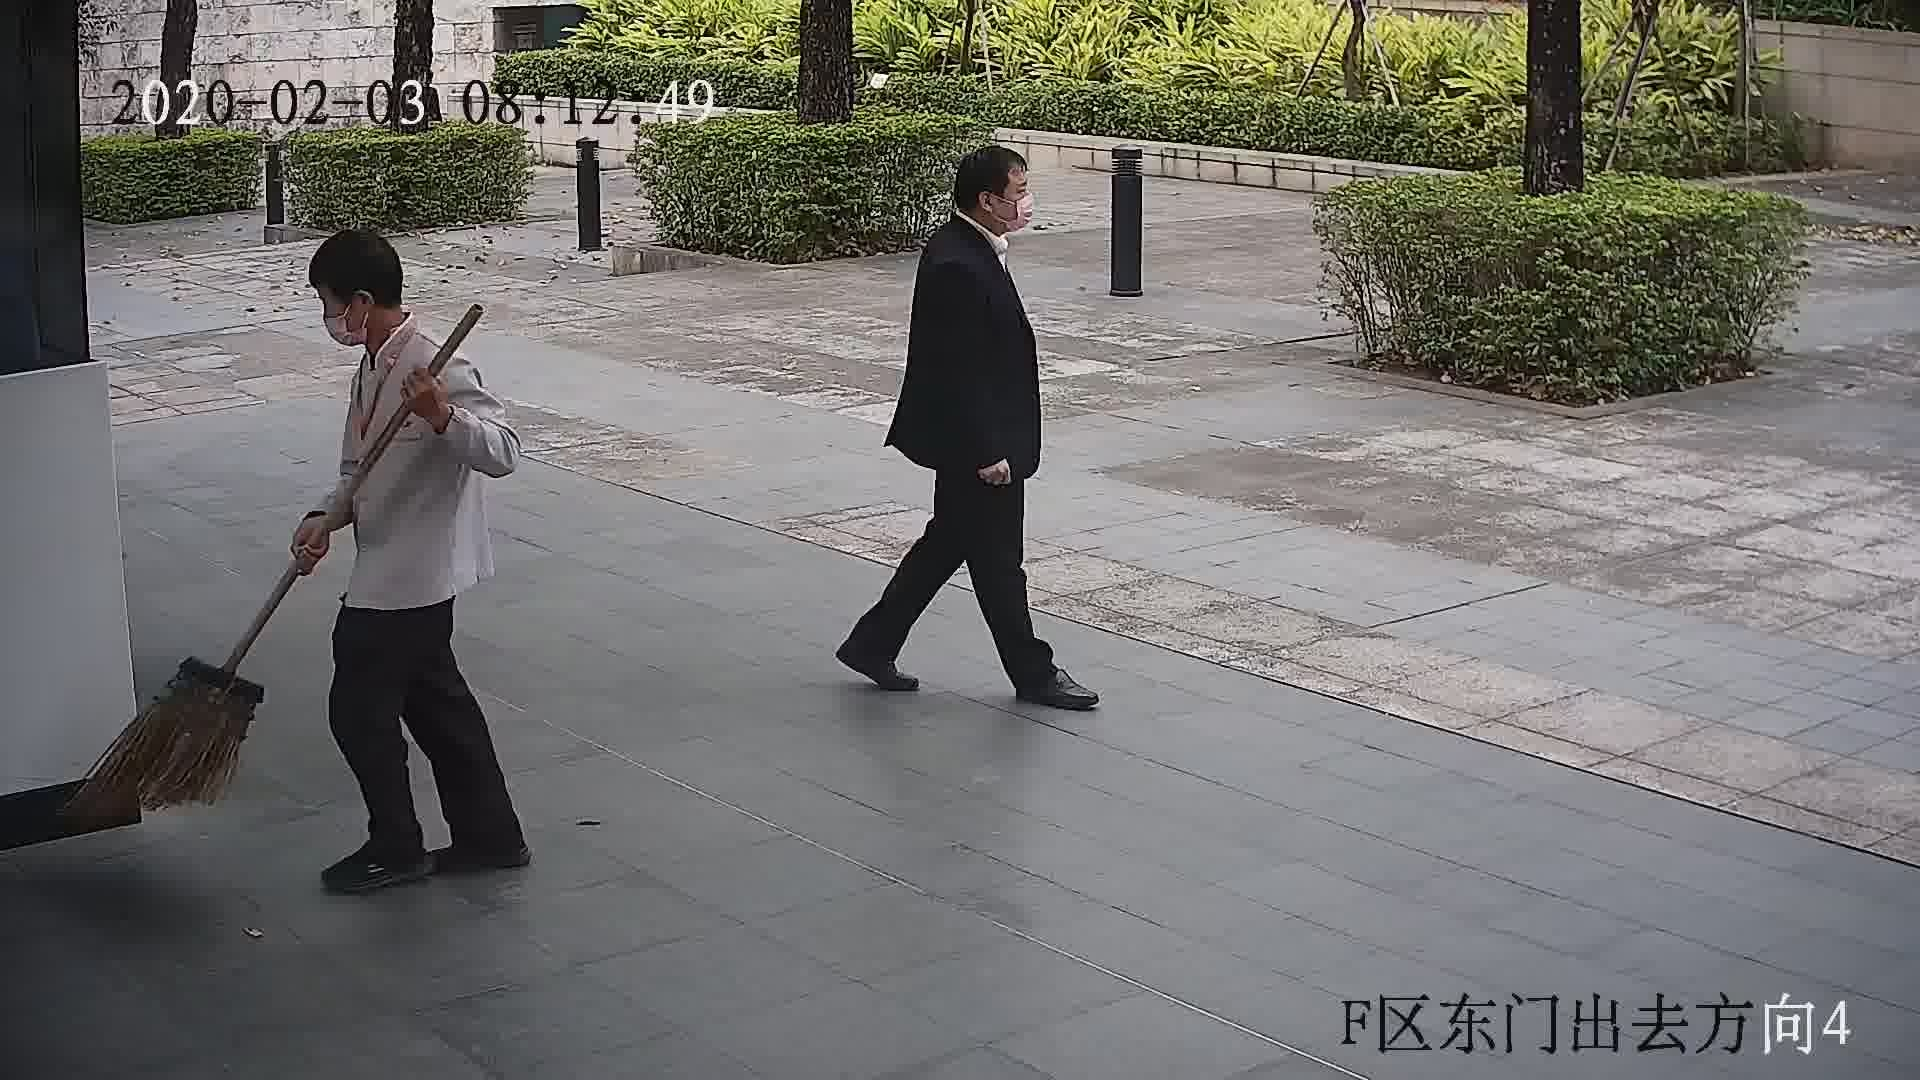face: (978, 154, 1040, 238), (322, 278, 392, 348)
mask: (323, 307, 371, 344), (999, 199, 1037, 232)
person: (312, 231, 453, 398), (917, 142, 1035, 289)
